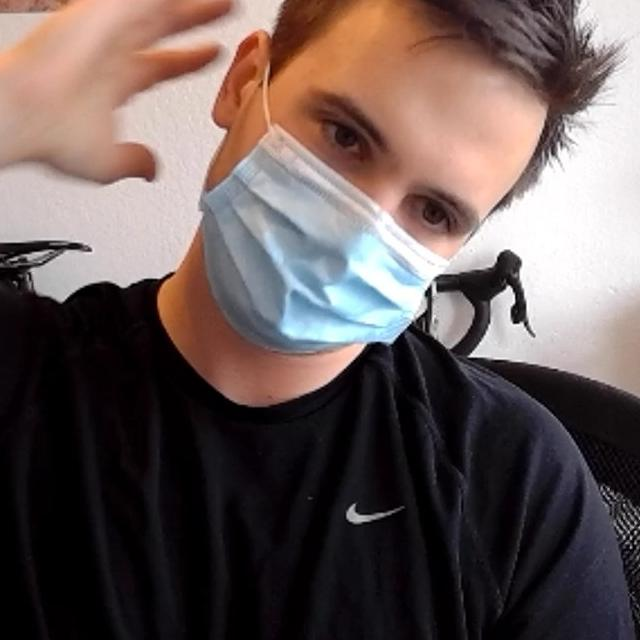Mask: (200, 36, 461, 352)
NO-Hardhat: (289, 0, 596, 111)
NO-Safety Vest: (0, 320, 543, 640)
Person: (0, 0, 640, 640)
